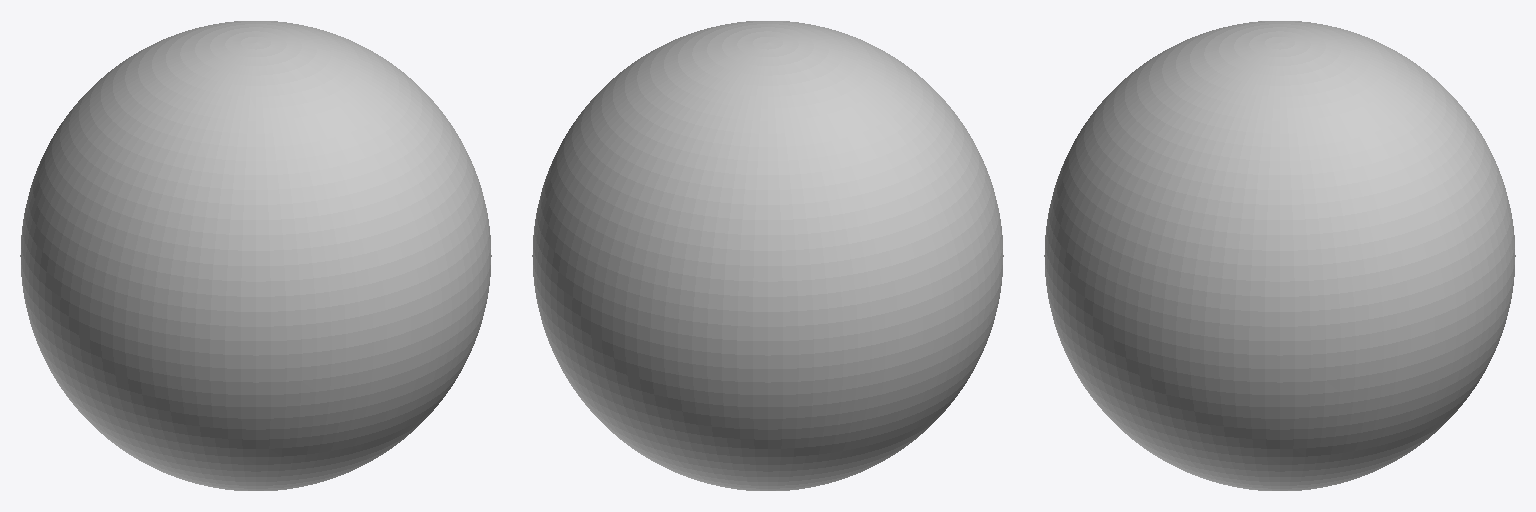
File: ball_high.obj
The picture shows the model from 3 angles: view 1: azimuth 30°, elevation 25°; view 2: azimuth 150°, elevation 25°; view 3: azimuth 270°, elevation 25°; orthographic projection.
Visible parts, largest first — view 1: Sphere01; view 2: Sphere01; view 3: Sphere01.
Part boxes in pixels (bbox=[...]): Sphere01: bbox=[20, 21, 491, 490]; Sphere01: bbox=[532, 21, 1003, 490]; Sphere01: bbox=[1044, 21, 1515, 490].
Size of the model in its own units: 63.89 by 63.89 by 63.89.